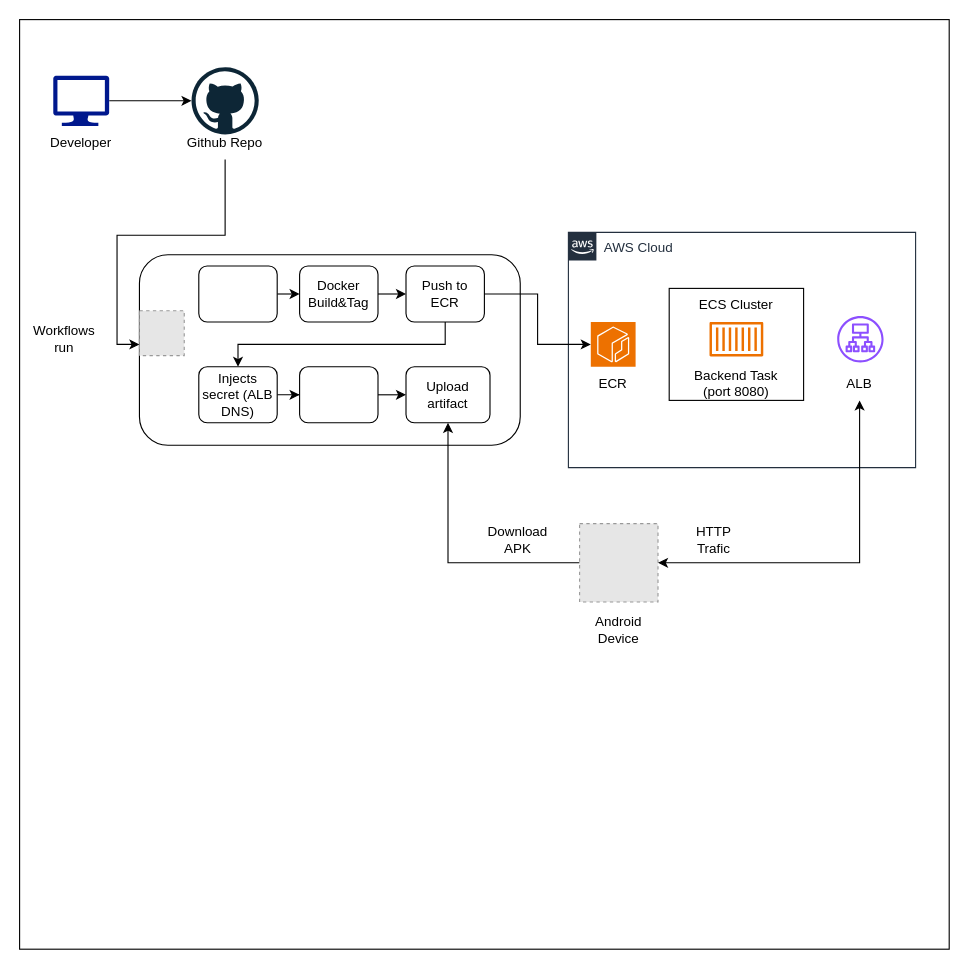
This 969x969 diagram has some shape labels left out. Grey dashed boxes stand in for pictures. Each missing label, with the centre of its shape:
"Build APK" goes at (338,394).
"Build JAR" goes at (237,293).
